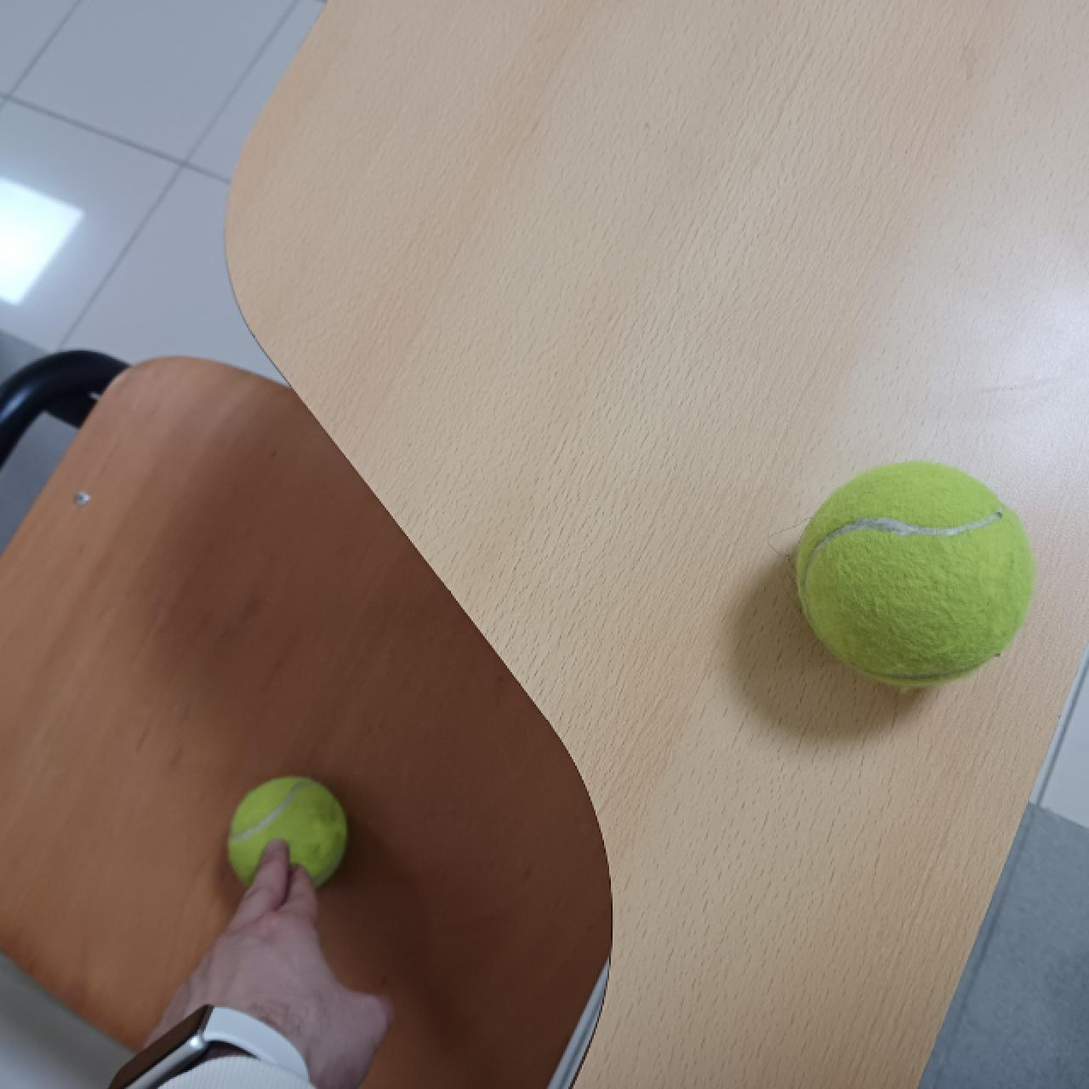tennis-ball: (795, 459, 1032, 687), (227, 769, 357, 895)
